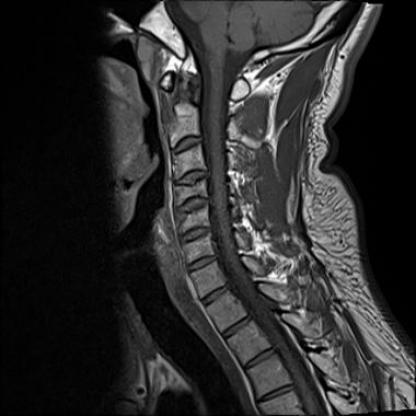Disc Bulgerotation: (171, 170, 208, 188), (170, 135, 205, 154), (175, 196, 211, 214), (188, 254, 220, 270), (180, 226, 213, 241)
Disc Protrusionrotation: (188, 254, 220, 270)
